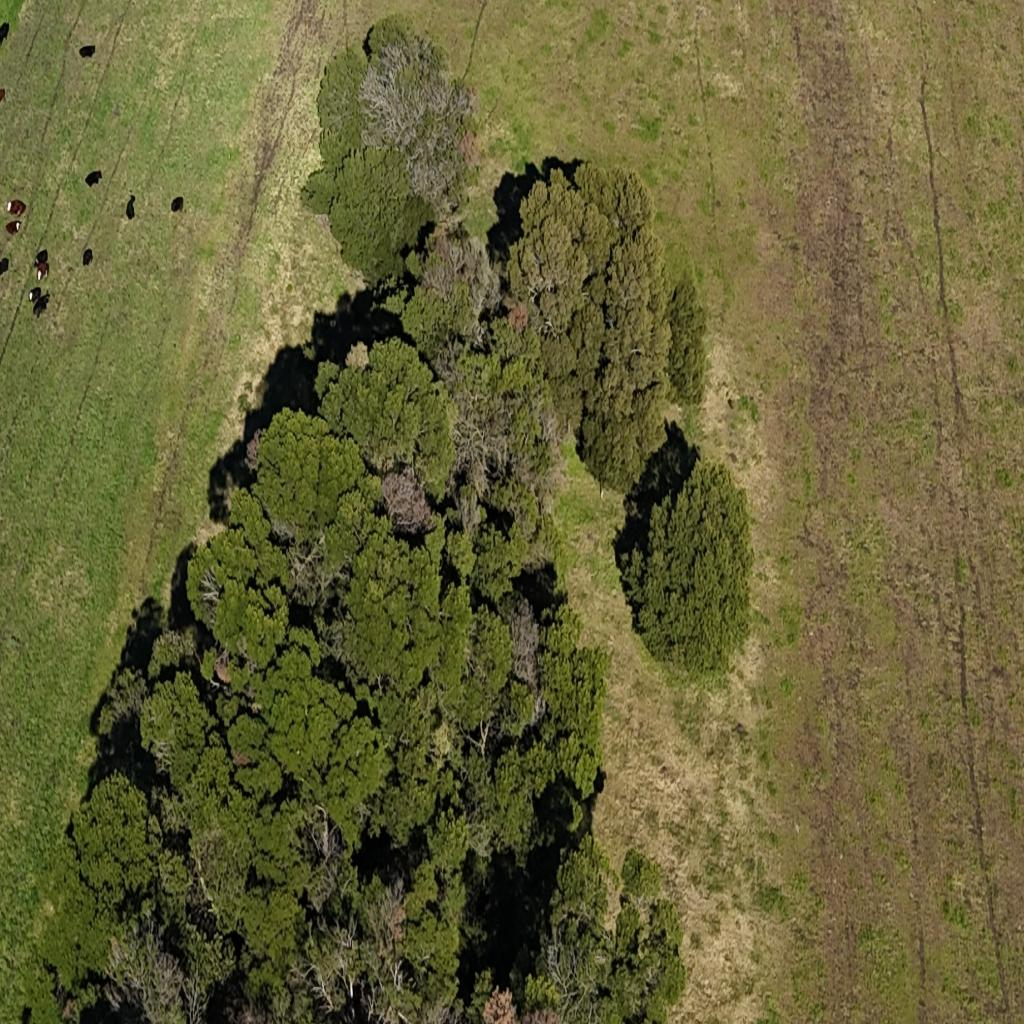cow: (32, 292, 50, 318), (171, 195, 187, 218), (6, 198, 25, 216), (124, 195, 137, 221), (85, 169, 102, 187), (35, 261, 49, 282), (5, 220, 23, 236), (78, 45, 97, 60), (0, 256, 12, 278), (82, 246, 94, 267), (0, 23, 10, 47), (28, 287, 42, 304), (33, 251, 49, 265)
